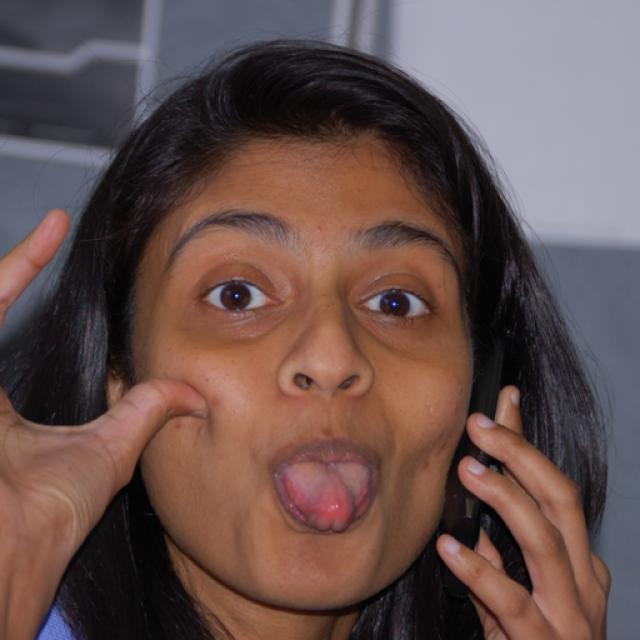surprise: (126, 113, 474, 608)
